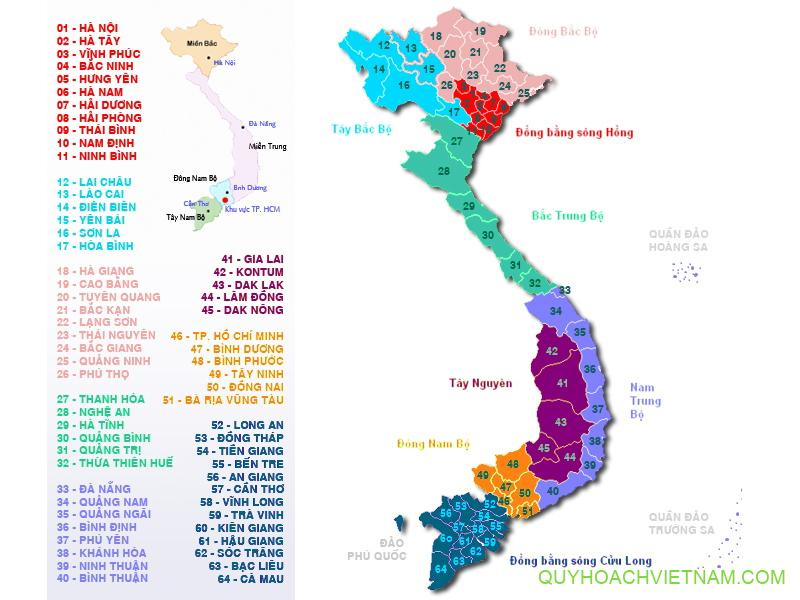Island: (650, 480, 768, 564), (647, 220, 710, 293)
